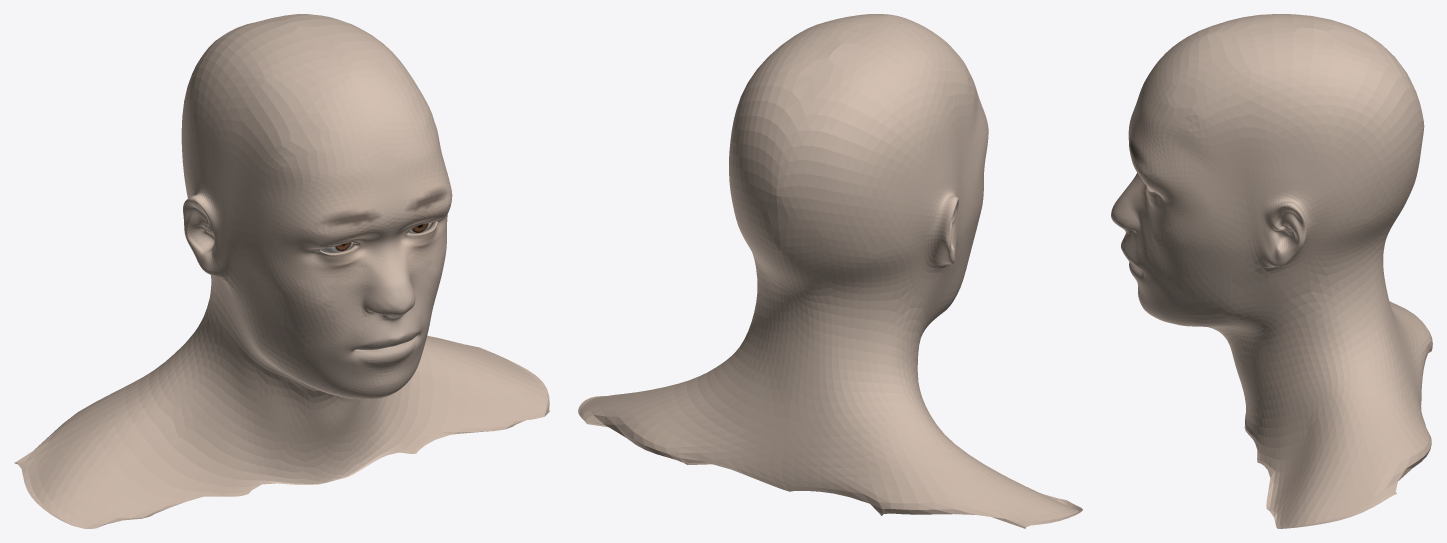
Rendered from head.glb.
3 views of the same model, side by side, from view 1: azimuth 30°, elevation 25°; view 2: azimuth 150°, elevation 25°; view 3: azimuth 270°, elevation 25° (orthographic). The views are drawn at different scales.
Visible parts, largest first — view 1: skin; view 2: skin; view 3: skin.
Boxes of the visible parts, x1,y1,x2,y2 form: skin: [14, 14, 549, 528]; skin: [578, 14, 1082, 528]; skin: [1111, 14, 1432, 528].
Size of the model in its own units: 1.19 by 0.9844 by 0.7212.
Materials: 2 (1 with a texture image).
